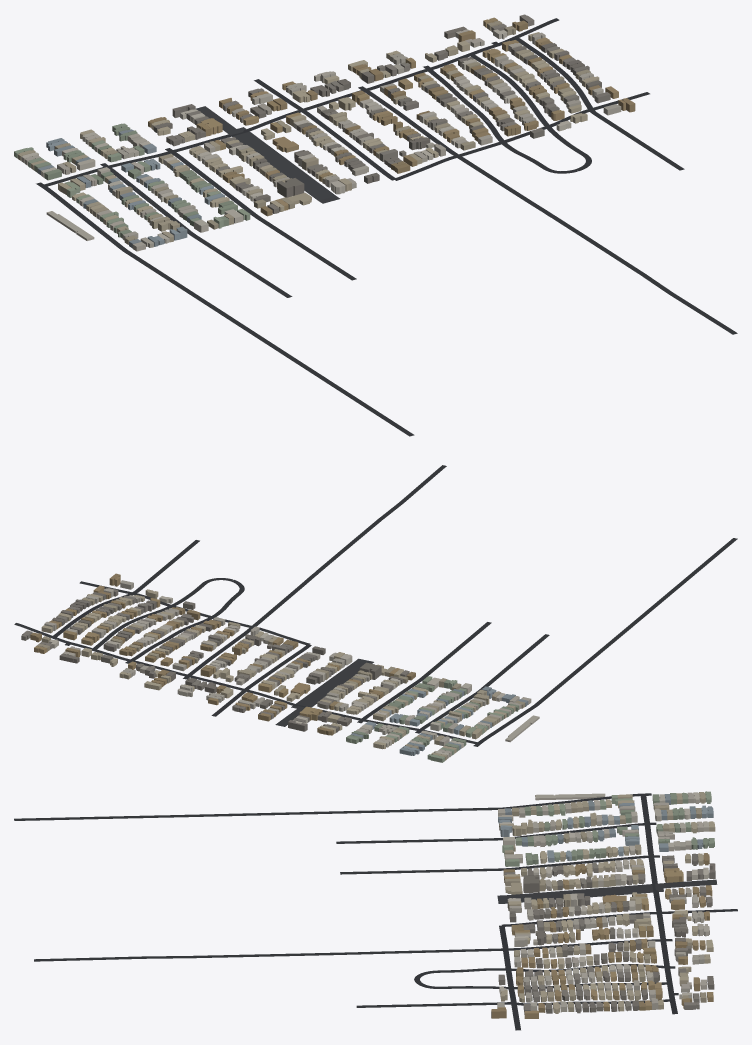
File: tile_5_17.glb
The picture shows the model from 3 angles, top to bottom: view 1: azimuth 30°, elevation 25°; view 2: azimuth 150°, elevation 25°; view 3: azimuth 270°, elevation 25°; orthographic projection. The views are drawn at different scales.
Parts seen in each view (by area): view 1: bld_5_17, road_5_17; view 2: bld_5_17, road_5_17; view 3: bld_5_17, road_5_17.
Part boxes in pixels (x1,y1,x2,y2): bld_5_17: (14, 14, 635, 251); road_5_17: (36, 18, 737, 436); bld_5_17: (21, 573, 539, 762); road_5_17: (14, 465, 737, 746); bld_5_17: (491, 791, 715, 1018); road_5_17: (14, 793, 737, 1030).
Size of the model in its own units: 787 by 50.3 by 949.
